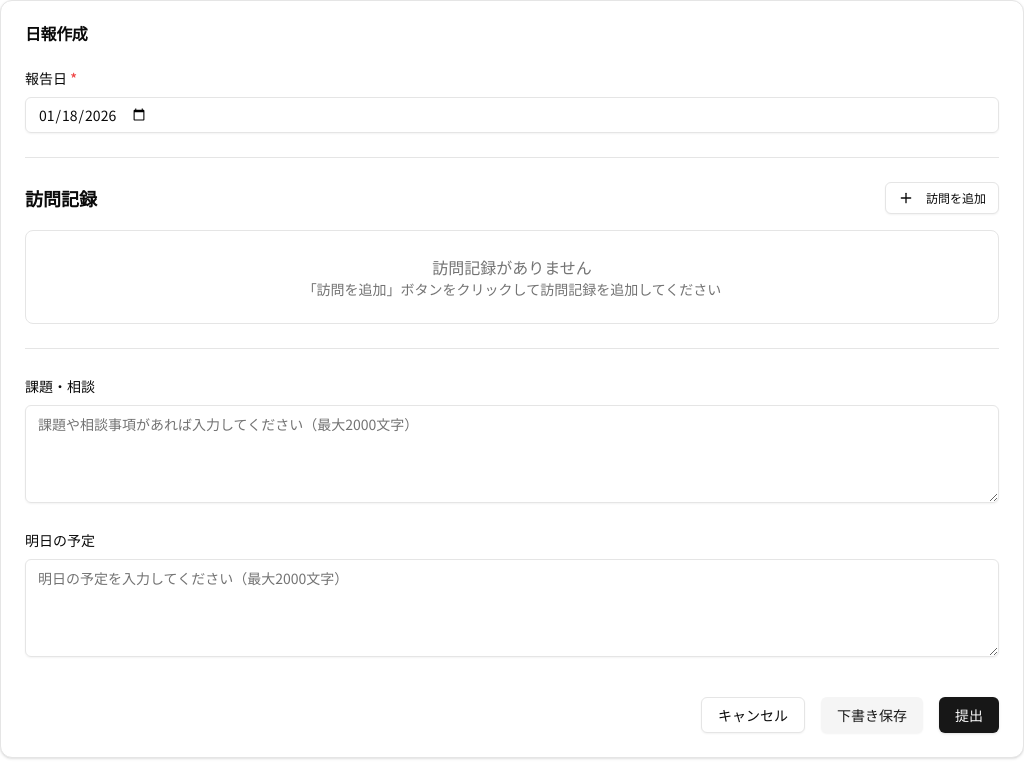
it: ReportForm › form validation › should show validation error when submitting without visits
This screenshot has width=1024, height=768.
What coordinates should you click on to do the following:
click the button "提出"
I would click on:
 (969, 715)
Its box is [939,697,999,733].
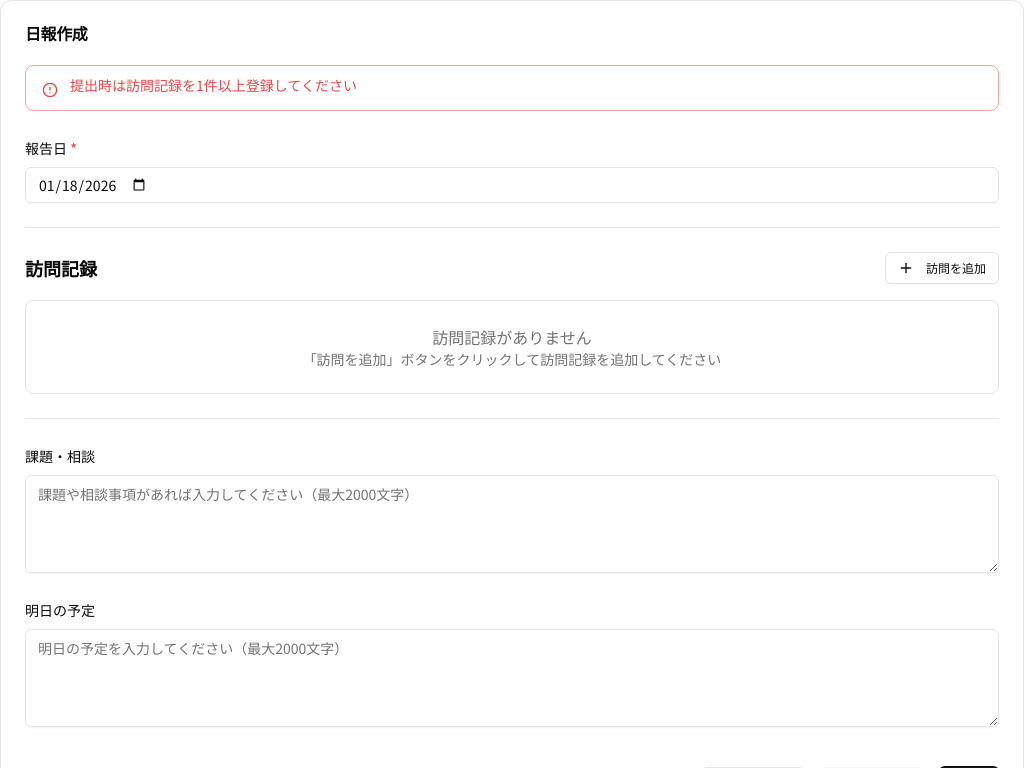
Result: the text "提出時は訪問記録を1件以上登録してください" is shown at [70,75,357,95]
